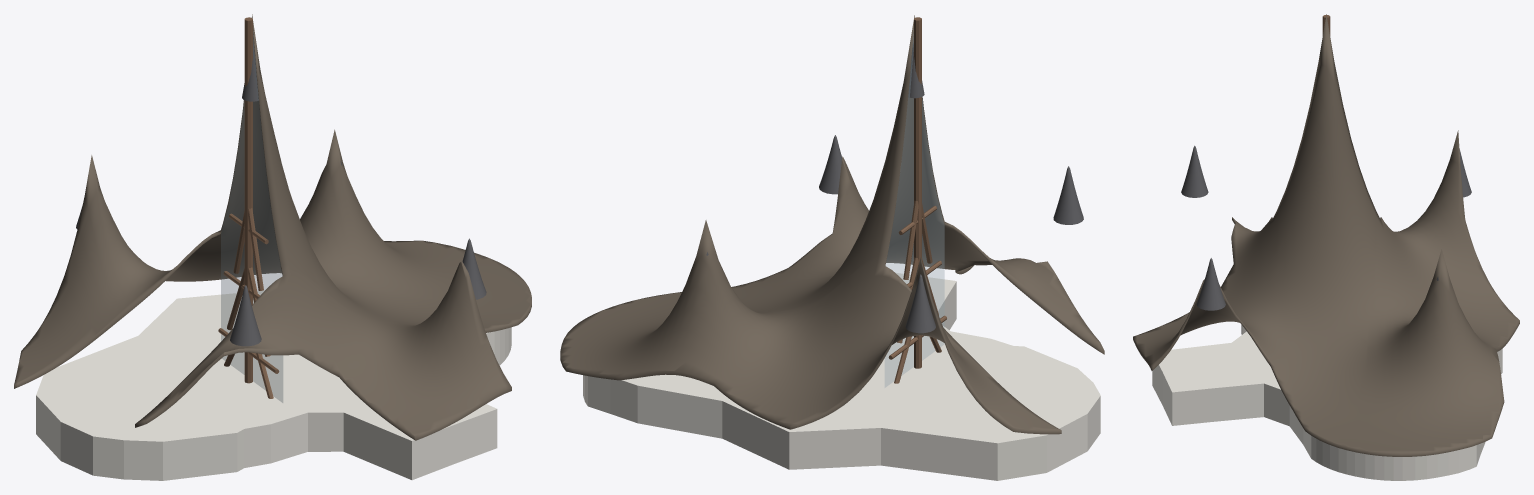
File: HuisVijfZintuigen_v1.fbx
3 renders of one model, left to right at view 1: azimuth 30°, elevation 25°; view 2: azimuth 150°, elevation 25°; view 3: azimuth 270°, elevation 25°, orthographic. The views are drawn at different scales.
Visible parts, largest first — view 1: GEO_dak_riet, GEO_muren, GEO_glasgevel, GEO_spant_mast, GEO_spitskap_1, GEO_spitskap_3; view 2: GEO_dak_riet, GEO_muren, GEO_glasgevel, GEO_spant_mast, GEO_spitskap_2, GEO_spitskap_1, GEO_spitskap_3; view 3: GEO_dak_riet, GEO_muren, GEO_spitskap_3, GEO_spitskap_1.
Boxes of the visible parts, x1=… form: GEO_dak_riet: x1=14, y1=14, x2=531, y2=440; GEO_muren: x1=36, y1=290, x2=511, y2=480; GEO_glasgevel: x1=221, y1=35, x2=282, y2=402; GEO_spant_mast: x1=244, y1=17, x2=252, y2=383; GEO_spitskap_1: x1=230, y1=285, x2=261, y2=346; GEO_spitskap_3: x1=462, y1=238, x2=486, y2=299; GEO_dak_riet: x1=560, y1=15, x2=1104, y2=434; GEO_muren: x1=583, y1=273, x2=1100, y2=480; GEO_glasgevel: x1=885, y1=33, x2=944, y2=387; GEO_spant_mast: x1=914, y1=17, x2=921, y2=368; GEO_spitskap_2: x1=905, y1=274, x2=935, y2=333; GEO_spitskap_1: x1=1053, y1=166, x2=1083, y2=224; GEO_spitskap_3: x1=819, y1=135, x2=842, y2=194; GEO_dak_riet: x1=1133, y1=14, x2=1519, y2=456; GEO_muren: x1=1152, y1=325, x2=1502, y2=480; GEO_spitskap_3: x1=1196, y1=258, x2=1225, y2=310; GEO_spitskap_1: x1=1181, y1=145, x2=1208, y2=197.
Bounding box in the file's own units: 60.25 × 46.56 × 47.
